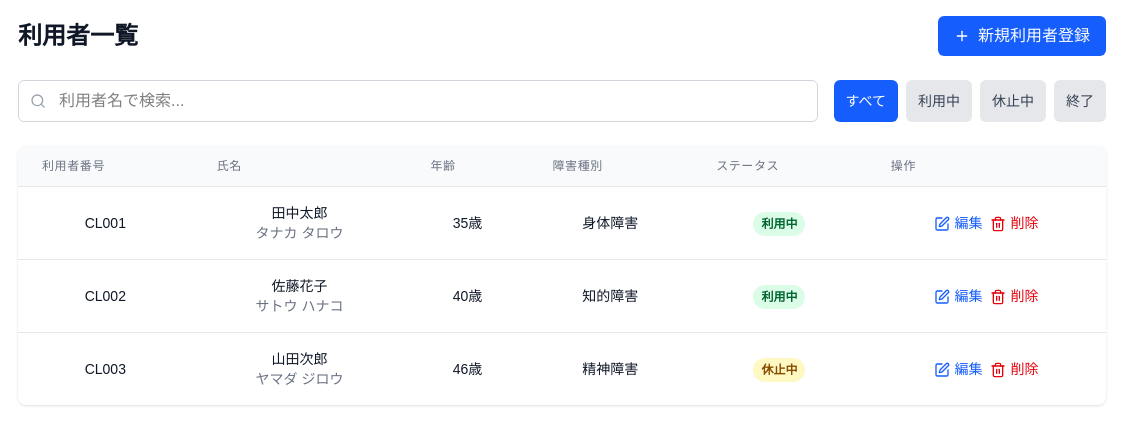
Test: ClientList › search functionality › filters clients by name when searching
This screenshot has width=1123, height=423.
Type "田中" into the field with placeholder "利用者名で検索...".
click(418, 101); type("田中")  # box x1=18 y1=80 x2=818 y2=122
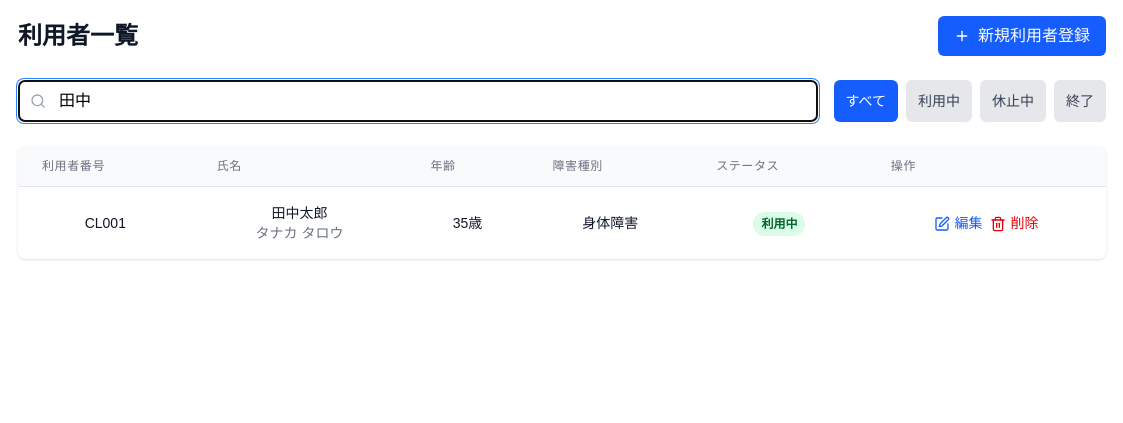
Expected: the text "田中太郎" is shown, x1=272 y1=205 x2=328 y2=221
Expected: the text "佐藤花子" is gone
Expected: the text "山田次郎" is gone
